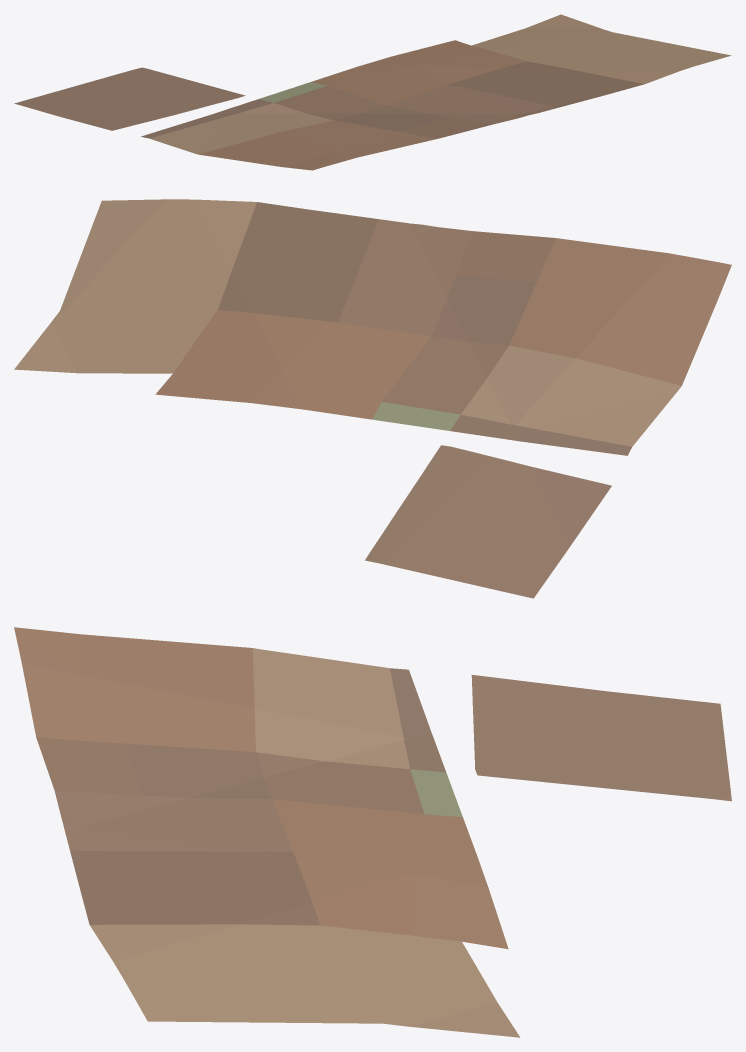
The model's file is farm_11_-2_soil.glb.
3 renders of one model, top to bottom at view 1: azimuth 30°, elevation 25°; view 2: azimuth 150°, elevation 25°; view 3: azimuth 270°, elevation 25°, orthographic. The views are drawn at different scales.
Parts seen in each view (by area): view 1: geometry_0; view 2: geometry_0; view 3: geometry_0.
Part boxes in pixels (bbox=[...]): geometry_0: bbox=[14, 14, 731, 170]; geometry_0: bbox=[14, 199, 731, 598]; geometry_0: bbox=[14, 627, 731, 1037].
Bounding box in the file's own units: 230 × 34.5 × 174.
